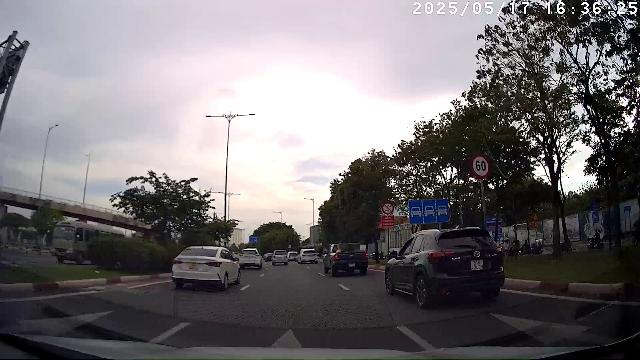127-toc-do-toi-da-60: (470, 154, 492, 178)
